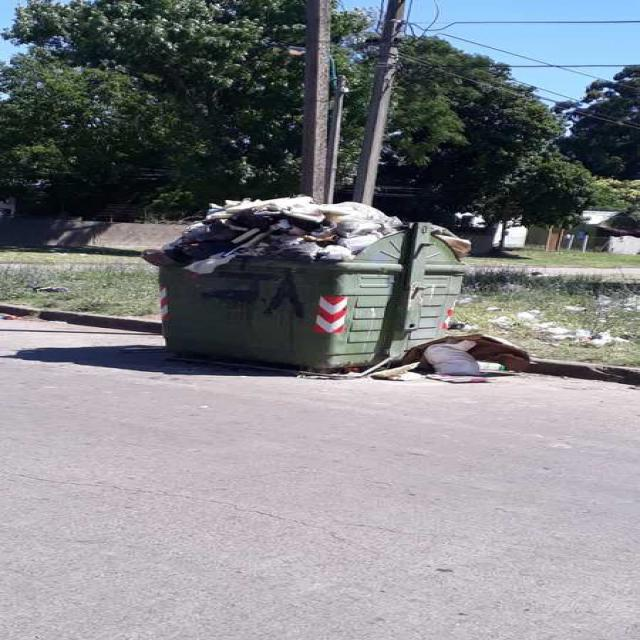garbage: (155, 187, 377, 284), (368, 320, 546, 394)
